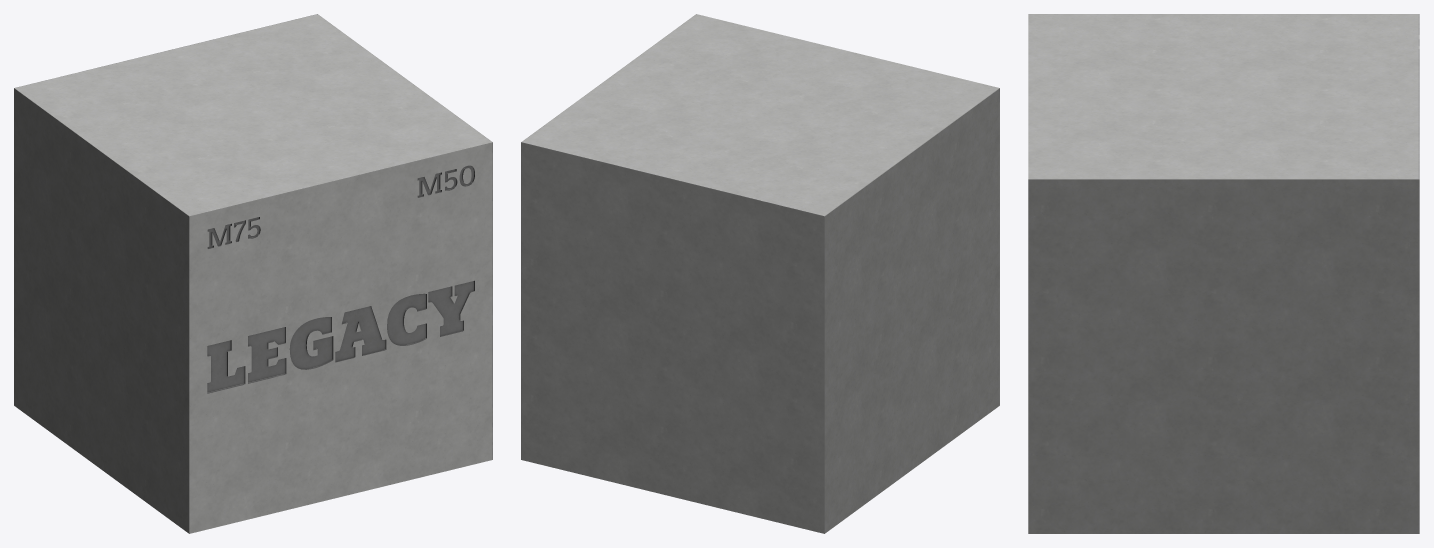
File: Legasy_cube_02.glb
3 renders of one model, left to right at view 1: azimuth 30°, elevation 25°; view 2: azimuth 150°, elevation 25°; view 3: azimuth 270°, elevation 25°, orthographic. The views are drawn at different scales.
Parts seen in each view (by area): view 1: Box001; view 2: Box001; view 3: Box001.
Part boxes in pixels (left/top/right/bottom): Box001: left=14, top=14, right=492, bottom=533; Box001: left=521, top=14, right=999, bottom=533; Box001: left=1028, top=14, right=1419, bottom=533.
Bounding box in the file's own units: 0.9144 × 0.9144 × 0.9144.
Materials: 1 (1 with a texture image).
